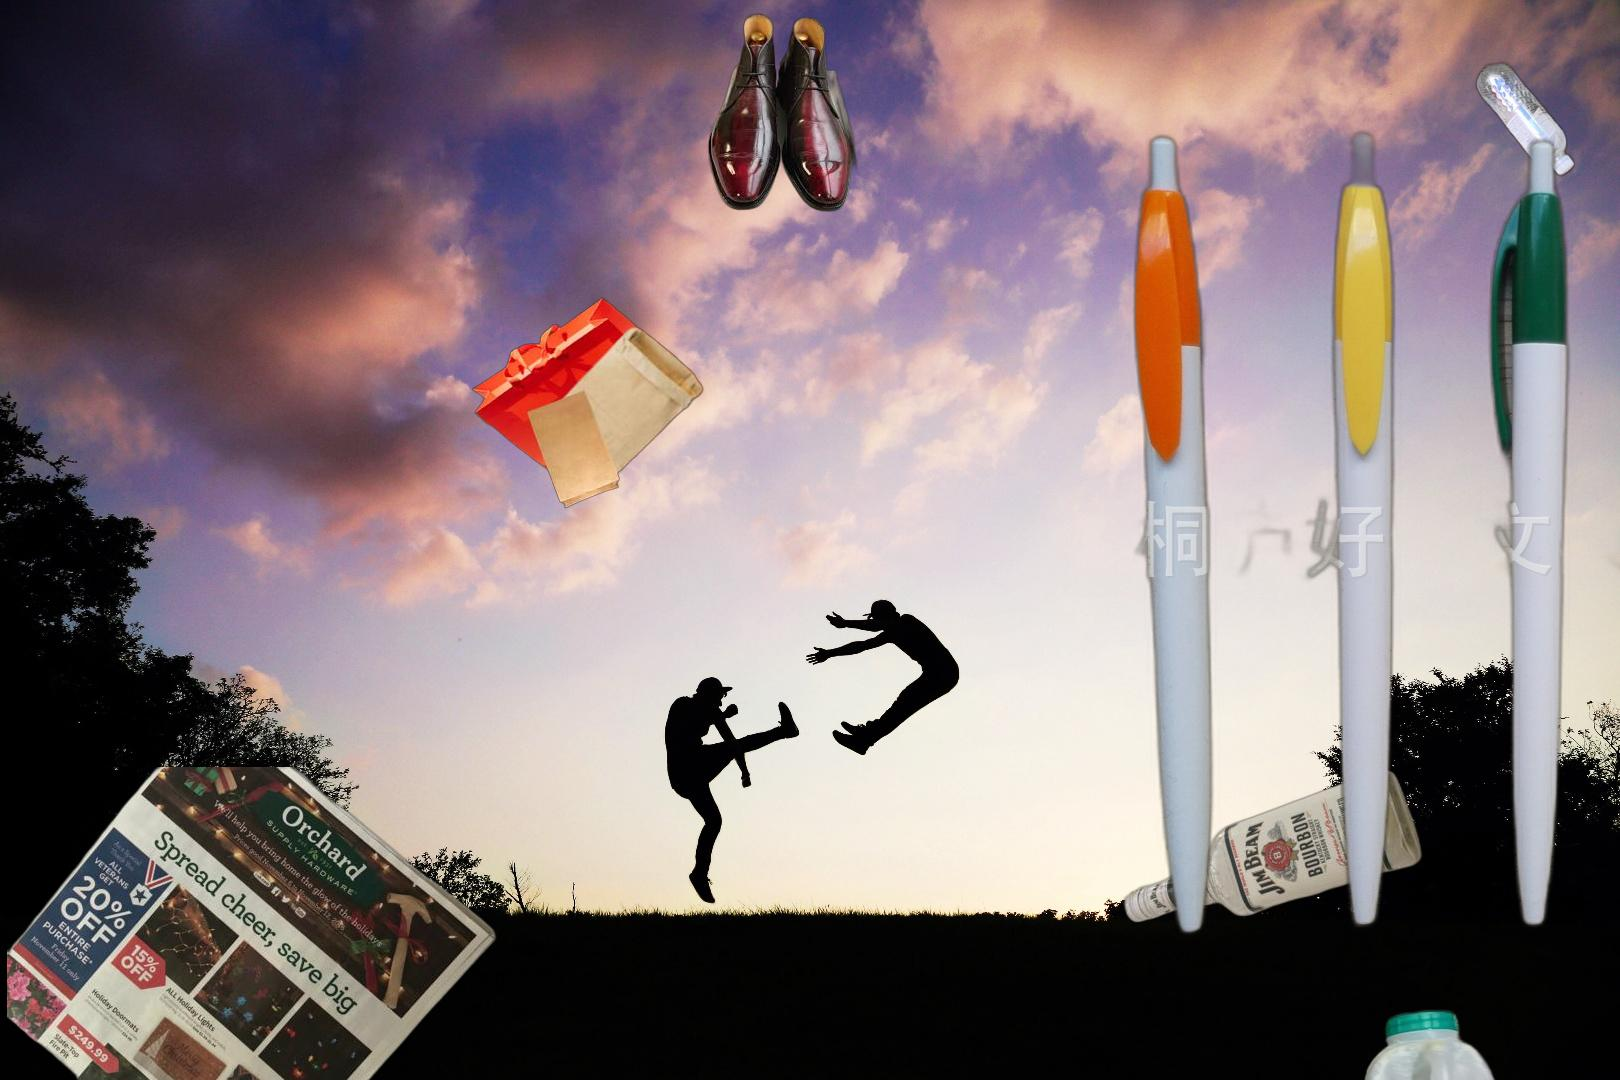glass: (1120, 765, 1426, 926)
paper: (7, 767, 500, 1080)
paper-bag: (471, 295, 706, 510)
penholder: (1125, 124, 1620, 943)
plastic-bottles: (1356, 1004, 1533, 1080), (1472, 57, 1578, 182)
shoes: (693, 11, 859, 215)
